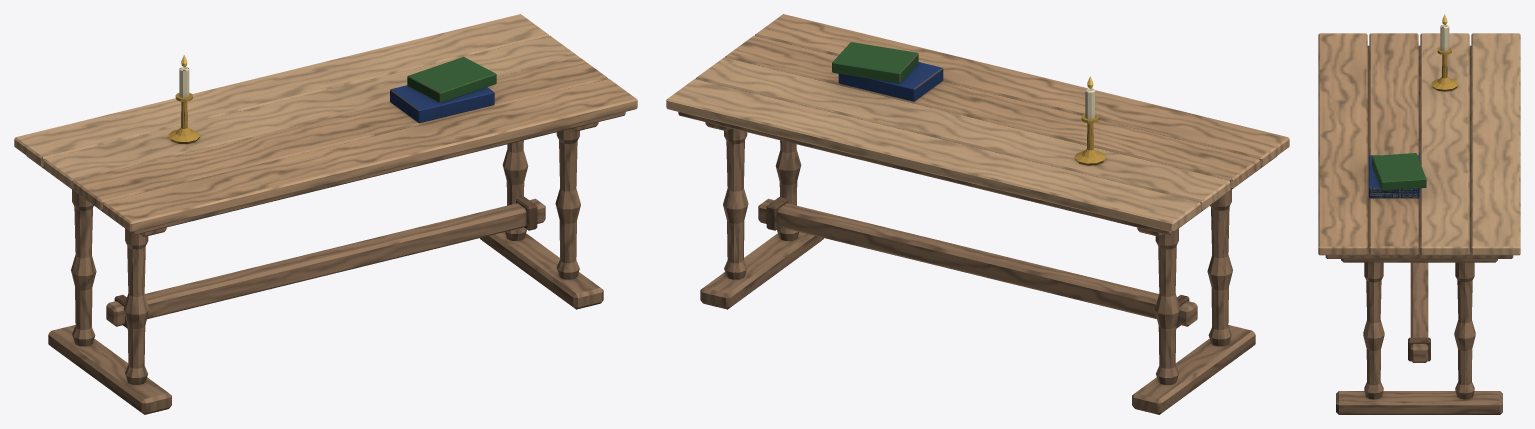
The model's file is table_tex.glb.
3 renders of one model, left to right at view 1: azimuth 30°, elevation 25°; view 2: azimuth 150°, elevation 25°; view 3: azimuth 270°, elevation 25°, orthographic. The views are drawn at different scales.
Parts seen in each view (by area): view 1: table; view 2: table; view 3: table.
Part boxes in pixels (x1=…): table: x1=14, y1=14, x2=637, y2=414; table: x1=666, y1=14, x2=1289, y2=414; table: x1=1318, y1=14, x2=1520, y2=414.
Size of the model in its own units: 2 by 1.1 by 0.8.
Materials: 10 (9 with a texture image).
